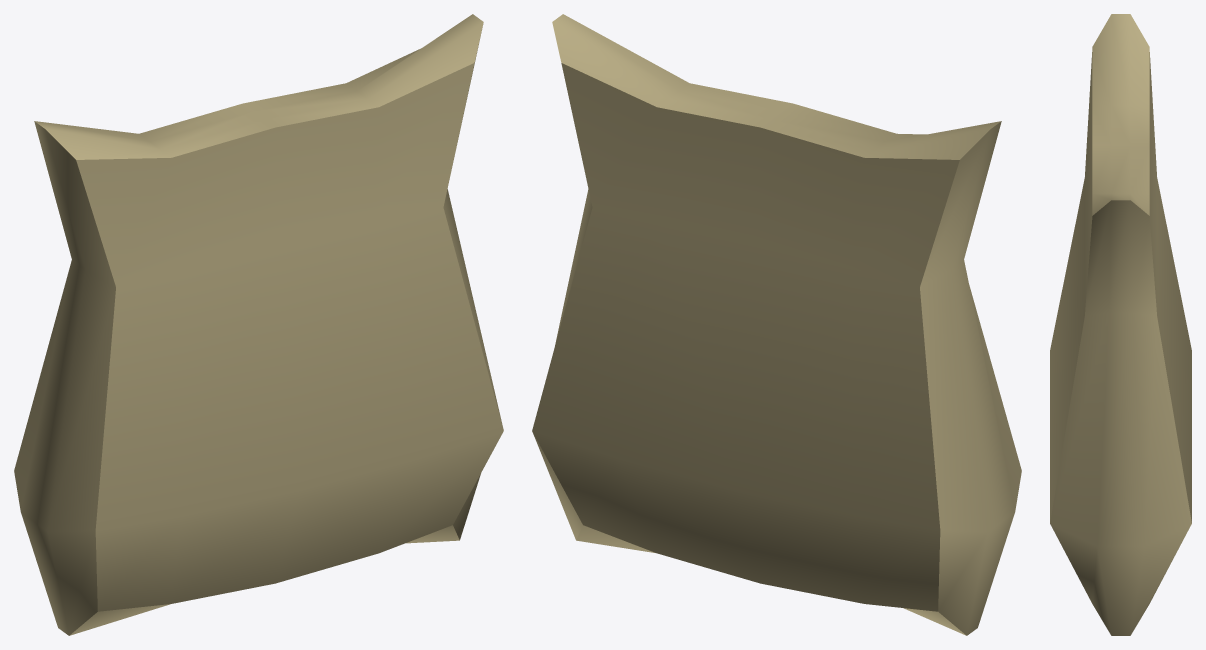
The model's file is Seedpacket.fbx.
3 renders of one model, left to right at view 1: azimuth 30°, elevation 25°; view 2: azimuth 150°, elevation 25°; view 3: azimuth 270°, elevation 25°, orthographic. The views are drawn at different scales.
Visible parts, largest first — view 1: Seedpacket; view 2: Seedpacket; view 3: Seedpacket.
Boxes of the visible parts, <box> form: Seedpacket: <box>14,14,503,635</box>; Seedpacket: <box>532,14,1021,635</box>; Seedpacket: <box>1050,14,1191,635</box>.
Size of the model in its own units: 1.06 by 1.16 by 0.3344.
